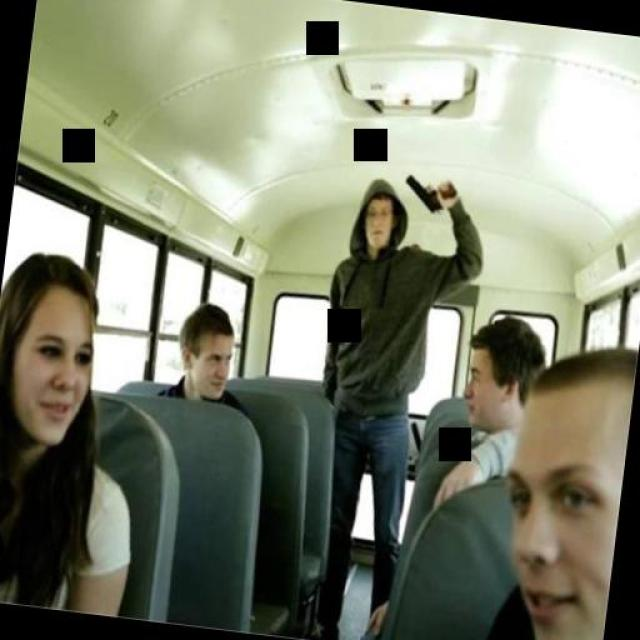gun: (402, 171, 456, 215)
